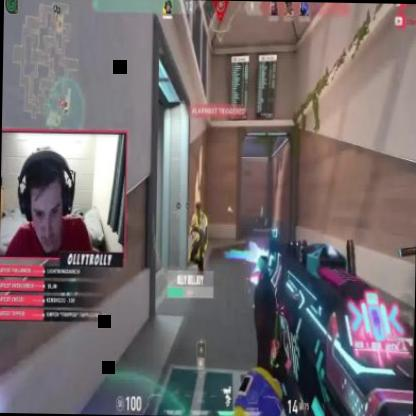enemy: (184, 201, 209, 276)
enemy_head: (194, 202, 201, 219)
